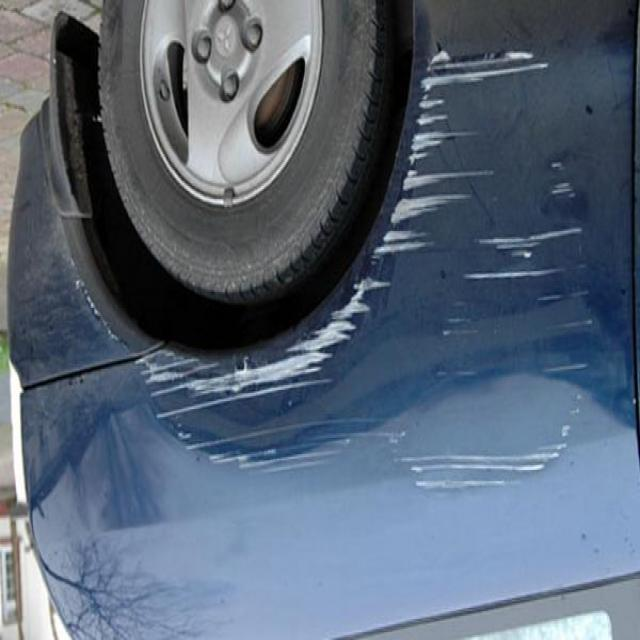scratch: (383, 35, 596, 499), (132, 330, 372, 480)
